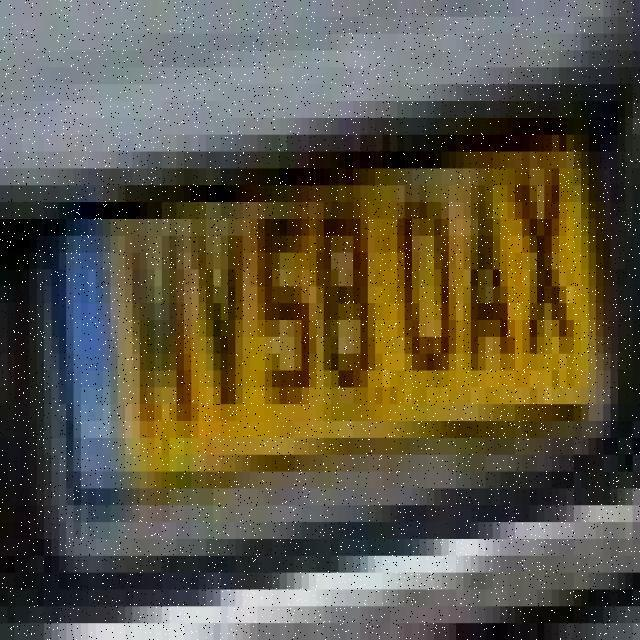LicensePlate: (47, 138, 619, 478)
